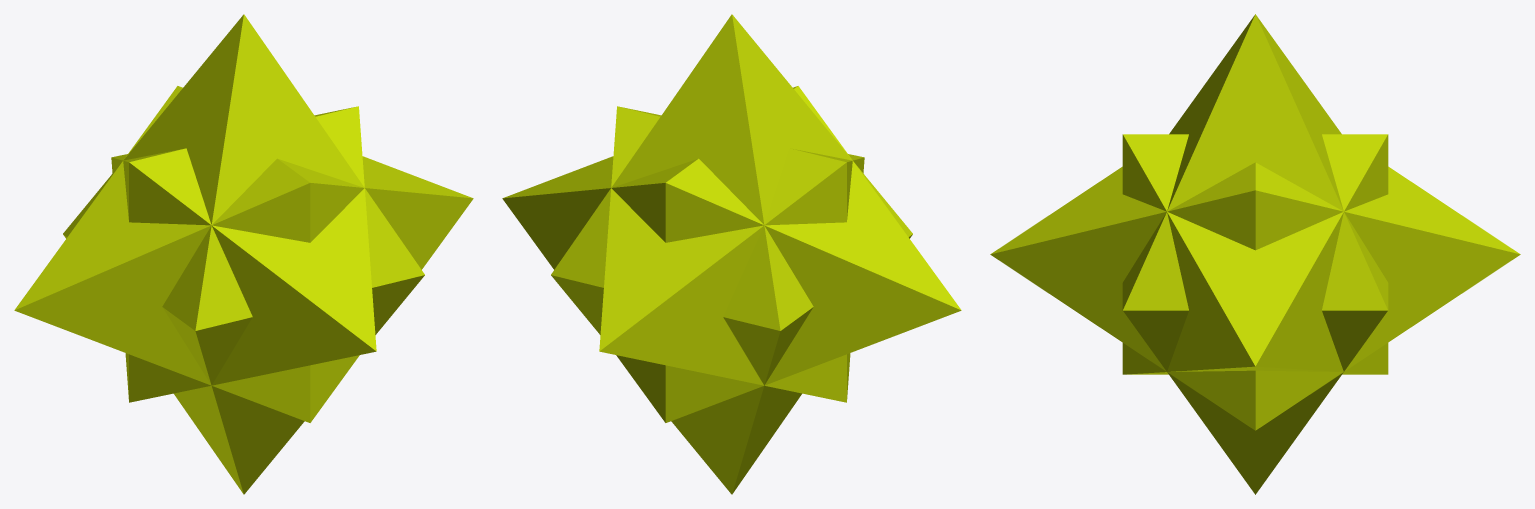
Rendered from RegBullet.obj.
The picture shows the model from 3 angles, left to right: view 1: azimuth 30°, elevation 25°; view 2: azimuth 150°, elevation 25°; view 3: azimuth 270°, elevation 25°; orthographic projection.
Parts seen in each view (by area): view 1: RegBullet; view 2: RegBullet; view 3: RegBullet.
Boxes of the visible parts, x1,y1,x2,y2 form: RegBullet: [14, 14, 473, 494]; RegBullet: [502, 14, 961, 494]; RegBullet: [990, 14, 1520, 494].
Size of the model in its own units: 1.6 by 1.6 by 1.6.
